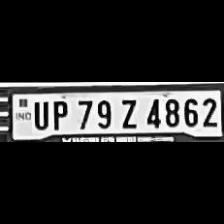2: (200, 95, 218, 127)
4: (140, 95, 162, 127)
6: (181, 95, 199, 127)
7: (71, 97, 93, 129)
8: (162, 96, 180, 127)
9: (92, 97, 114, 129)
P: (48, 98, 70, 130)
U: (29, 98, 48, 130)
Z: (115, 96, 139, 128)
